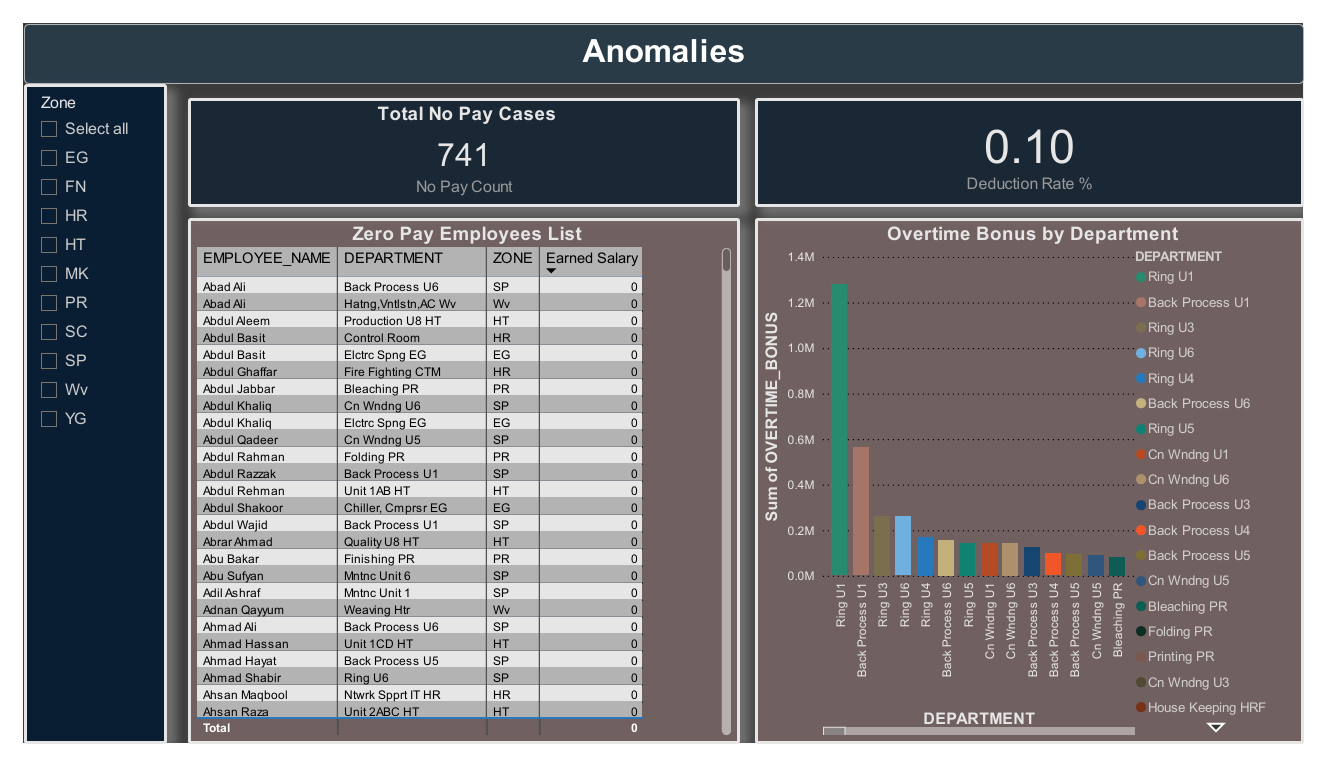

What the dashboard file says about the page in this screenshot:
{"tool":"powerbi","page":{"name":"Anomalies","canvas":[1280,720],"ordinal":12},"visuals":[{"type":"tableEx","title":"Zero Pay Employees List","fields":{"Values":["AI_PAYROLL_DATA.EMPLOYEE_NAME","AI_PAYROLL_DATA.DEPARTMENT","AI_PAYROLL_DATA.ZONE","Sum(AI_PAYROLL_DATA.EARNED_SALARY)"]},"box":[163.8,193.8,552.5,526.2],"z":0},{"type":"columnChart","title":"Overtime Bonus by Department","fields":{"Category":["AI_PAYROLL_DATA.DEPARTMENT"],"Y":["Sum(AI_PAYROLL_DATA.OVERTIME_BONUS)"],"Series":["AI_PAYROLL_DATA.DEPARTMENT"]},"box":[731.1,194.2,548.9,526],"z":1000},{"type":"card","title":"Total No Pay Cases","fields":{"Values":["AI_PAYROLL_DATA.No Pay Count"]},"box":[163.8,73.8,552.5,108.8],"z":2000},{"type":"slicer","fields":{"Values":["AI_PAYROLL_DATA.ZONE"]},"box":[0,60.4,142.7,660],"z":3000},{"type":"card","fields":{"Values":["AI_PAYROLL_DATA.Deduction Rate %"]},"box":[731.4,74.1,548.9,108.4],"z":4000},{"type":"textbox","box":[0,0,1280.3,60.4],"z":5000}]}

Visuals, with their boxes in screenshot pixels (x1, y1, x2, y2), scaled from the page's 1280x720 canvas onto the 1327x767 screenshot:
"Zero Pay Employees List" tableEx: (x1=170, y1=206, x2=743, y2=766)
"Overtime Bonus by Department" columnChart: (x1=758, y1=207, x2=1326, y2=766)
"Total No Pay Cases" card: (x1=170, y1=79, x2=743, y2=195)
slicer - AI_PAYROLL_DATA.ZONE: (x1=0, y1=64, x2=148, y2=766)
card - AI_PAYROLL_DATA.Deduction Rate %: (x1=758, y1=79, x2=1326, y2=194)
textbox: (x1=0, y1=0, x2=1326, y2=64)
